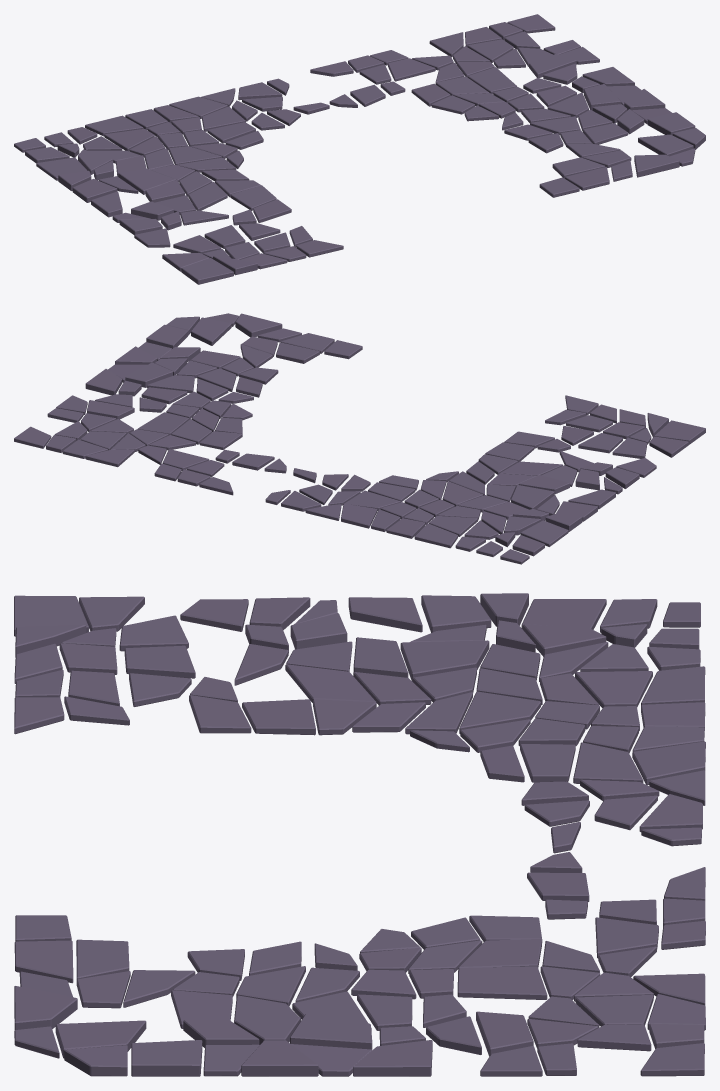
Rendered from Floor3_Stone.fbx.
3 views of the same model, one above another, from view 1: azimuth 30°, elevation 25°; view 2: azimuth 150°, elevation 25°; view 3: azimuth 270°, elevation 25° (orthographic). The views are drawn at different scales.
Parts seen in each view (by area): view 1: Slab2_0_0.001; view 2: Slab2_0_0.001; view 3: Slab2_0_0.001.
Boxes of the visible parts, box(x1,y1,x2,y2) form: Slab2_0_0.001: box(14, 14, 705, 284); Slab2_0_0.001: box(14, 313, 705, 564); Slab2_0_0.001: box(14, 593, 705, 1076).
Size of the model in its own units: 14968 by 193 by 9267.
